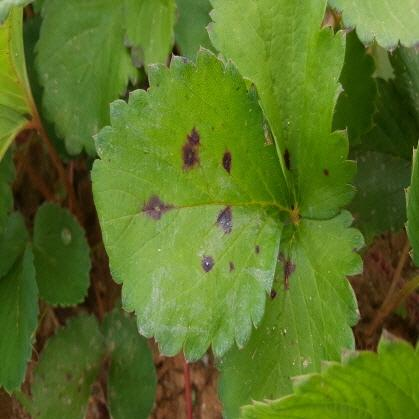Leaf Spot: (90, 44, 292, 365), (203, 0, 359, 221), (213, 209, 365, 418), (29, 313, 106, 418)
